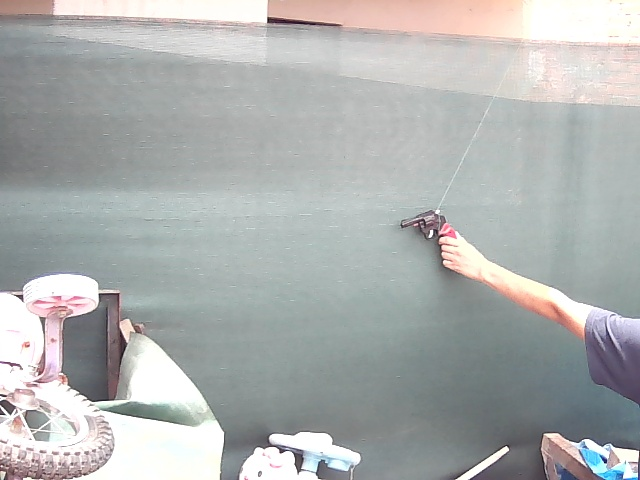pistola: (388, 205, 458, 238)
